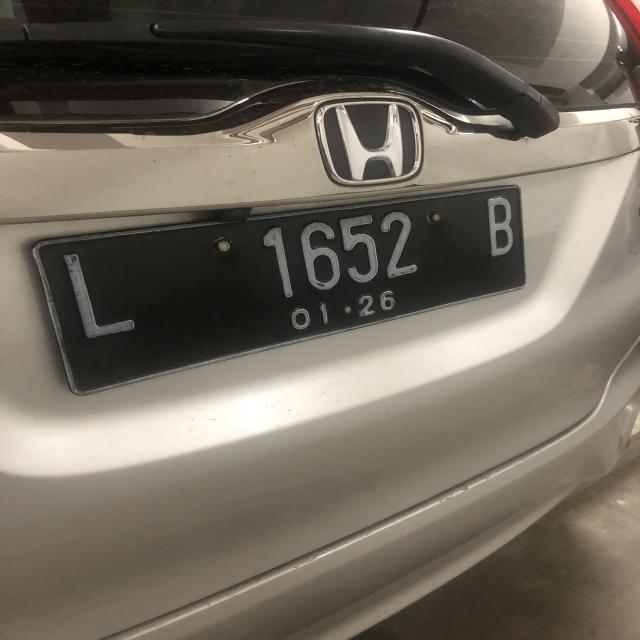1: (260, 222, 296, 299)
2: (378, 209, 424, 279)
5: (340, 208, 381, 284)
6: (295, 213, 341, 290)
B: (482, 192, 517, 260)
L: (58, 248, 138, 347)
